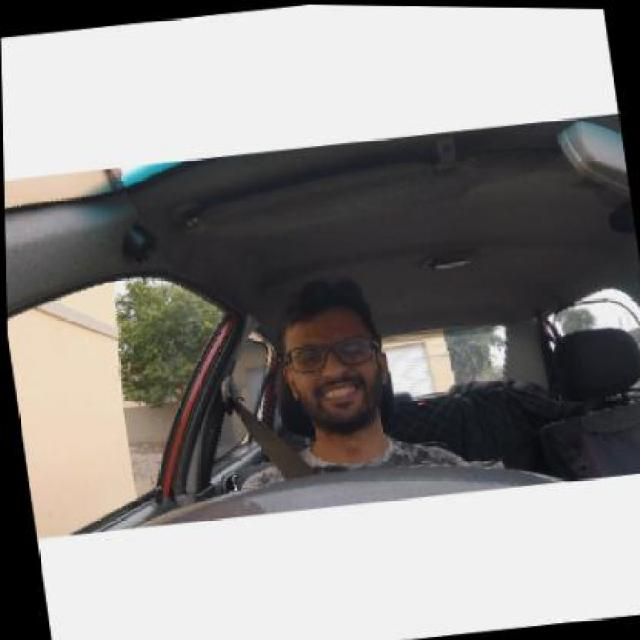drowsy: (280, 273, 395, 442)
